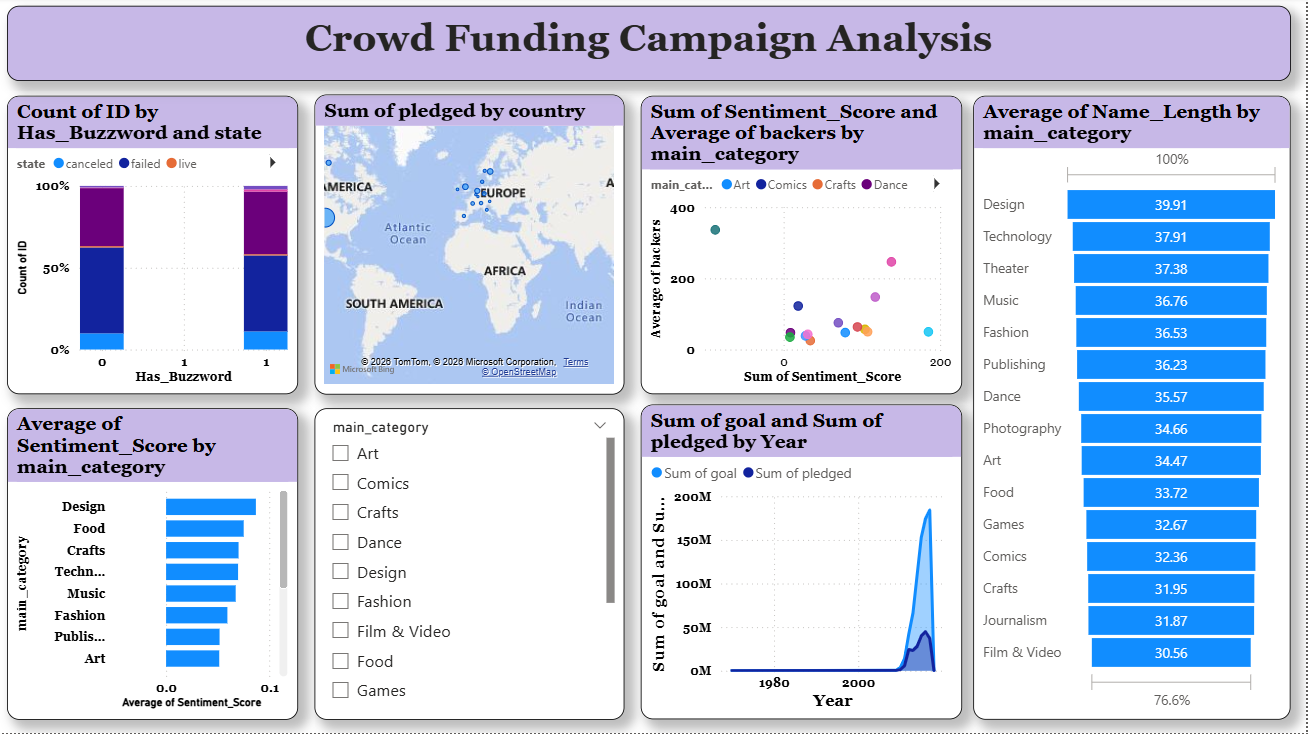

Layout of this report page (visuals, bound fields, positions):
{"tool":"powerbi","page":{"name":"Page 1","canvas":[1280,720],"ordinal":0},"visuals":[{"type":"hundredPercentStackedColumnChart","fields":{"Category":["kickstarter_with_nlp.Has_Buzzword"],"Y":["CountNonNull(kickstarter_with_nlp.ID)"],"Series":["kickstarter_with_nlp.state"]},"box":[9.8,96.6,284.9,292.3],"z":0},{"type":"clusteredBarChart","fields":{"Category":["kickstarter_with_nlp.main_category"],"Y":["Avg(kickstarter_with_nlp.Sentiment_Score)"]},"box":[9.8,402.3,284.9,304.5],"z":1},{"type":"map","fields":{"Category":["kickstarter_with_nlp.country"],"Size":["Sum(kickstarter_with_nlp.pledged)"]},"box":[310.6,95.4,303.3,293.5],"z":2},{"type":"slicer","fields":{"Values":["kickstarter_with_nlp.main_category"]},"box":[310.6,402.3,303.3,304.5],"z":3},{"type":"textbox","box":[9.8,8.6,1255.8,73.4],"z":4},{"type":"scatterChart","fields":{"X":["Sum(kickstarter_with_nlp.Sentiment_Score)"],"Y":["Avg(kickstarter_with_nlp.backers)"],"Series":["kickstarter_with_nlp.main_category"]},"box":[629.8,96.6,314.3,292.3],"z":5},{"type":"areaChart","fields":{"Category":["kickstarter_with_nlp.launched.Variation.Date Hierarchy.Year","kickstarter_with_nlp.launched.Variation.Date Hierarchy.Quarter","kickstarter_with_nlp.launched.Variation.Date Hierarchy.Month","kickstarter_with_nlp.launched.Variation.Date Hierarchy.Day"],"Y":["Sum(kickstarter_with_nlp.goal)","Sum(kickstarter_with_nlp.pledged)"]},"box":[629.8,398.6,314.3,308.2],"z":6},{"type":"funnel","fields":{"Category":["kickstarter_with_nlp.main_category"],"Y":["Avg(kickstarter_with_nlp.Name_Length)"]},"box":[955,96.6,310.6,610.2],"z":7}]}

Visuals, with their boxes in screenshot pixels (x1, y1, x2, y2), scaled from the page's 1280x720 canvas onto the 1308x734 screenshot:
hundredPercentStackedColumnChart - kickstarter_with_nlp.Has_Buzzword x CountNonNull(kickstarter_with_nlp.ID): Rect(10, 98, 301, 396)
clusteredBarChart - kickstarter_with_nlp.main_category x Avg(kickstarter_with_nlp.Sentiment_Score): Rect(10, 410, 301, 721)
map - kickstarter_with_nlp.country x Sum(kickstarter_with_nlp.pledged): Rect(317, 97, 627, 396)
slicer - kickstarter_with_nlp.main_category: Rect(317, 410, 627, 721)
textbox: Rect(10, 9, 1293, 84)
scatterChart - Sum(kickstarter_with_nlp.Sentiment_Score) x Avg(kickstarter_with_nlp.backers): Rect(644, 98, 965, 396)
areaChart - kickstarter_with_nlp.launched.Variation.Date Hierarchy.Year x kickstarter_with_nlp.launched.Variation.Date Hierarchy.Quarter: Rect(644, 406, 965, 721)
funnel - kickstarter_with_nlp.main_category x Avg(kickstarter_with_nlp.Name_Length): Rect(976, 98, 1293, 721)
